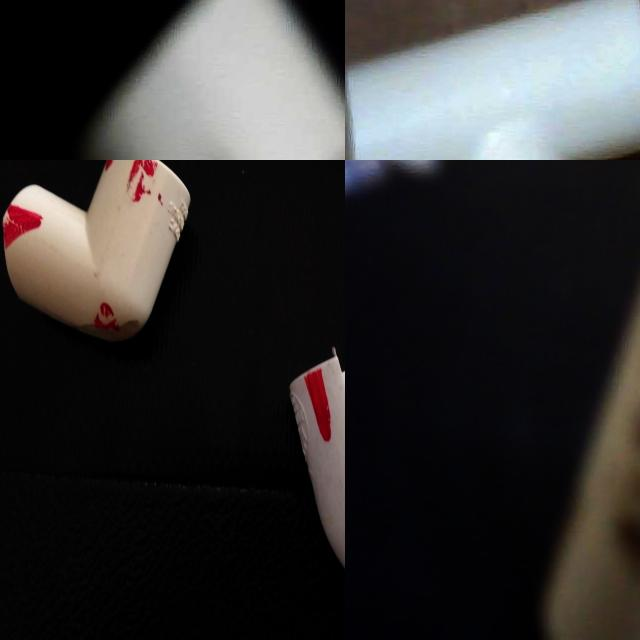Defective: (127, 543, 200, 592), (118, 459, 189, 503), (5, 545, 46, 614), (326, 184, 345, 210)
L Joint: (0, 433, 200, 640), (194, 160, 345, 298)
T Joint: (66, 0, 345, 160)
